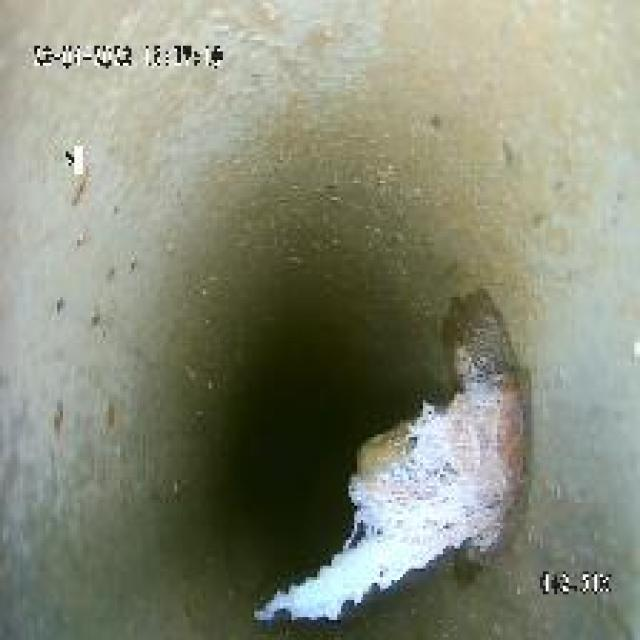ferrule: (346, 292, 528, 588)
